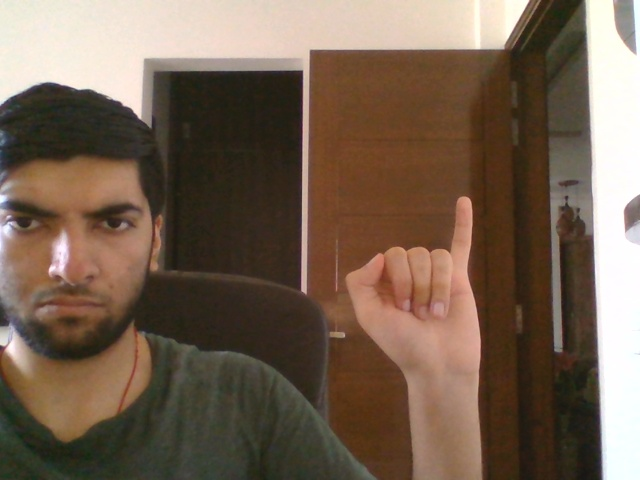LetterI: (345, 196, 481, 381)
